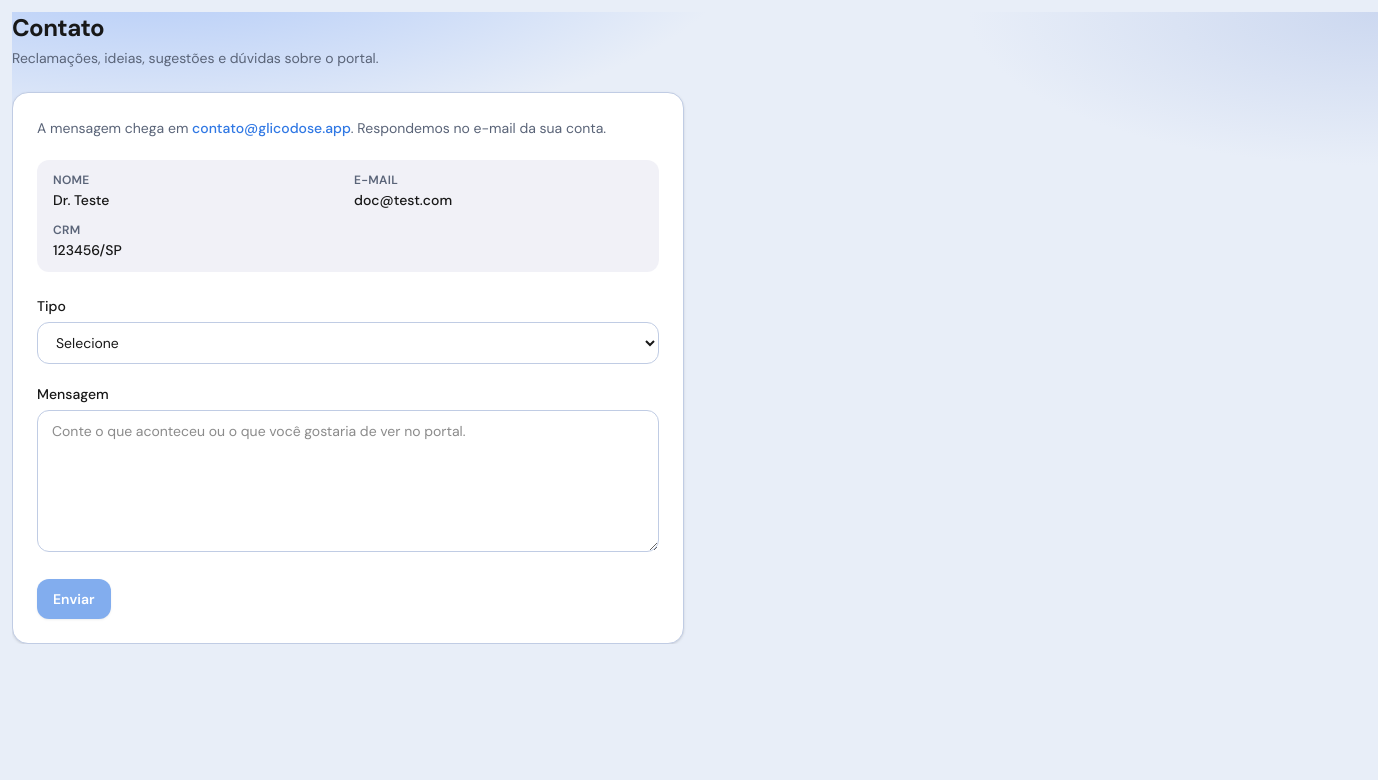
Test case: ContactPage › shows the signed-in doctor and sends type plus message
The image size is (1378, 780).
Check: the heading "Contato" is shown, box [12,12,104,43]
Check: the text "Dr. Teste" is shown, box [53,191,109,209]
Select "Sugestão" in the dropdown labelled "Tipo" at (348, 343), box [37,322,659,364]
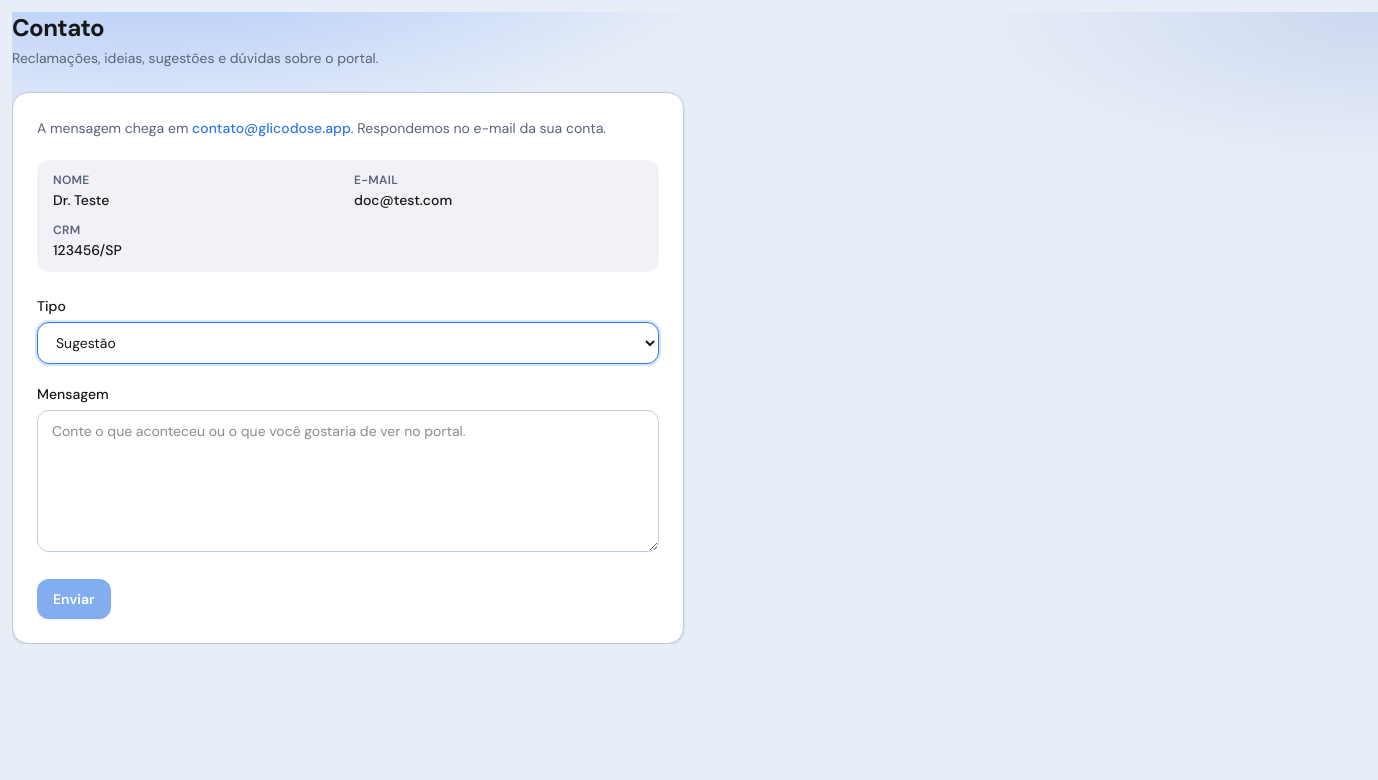
Type "Um atalho no histórico." into the text box labelled "Mensagem".
click(348, 481); type("Um atalho no histórico.")  # box [37,410,659,552]
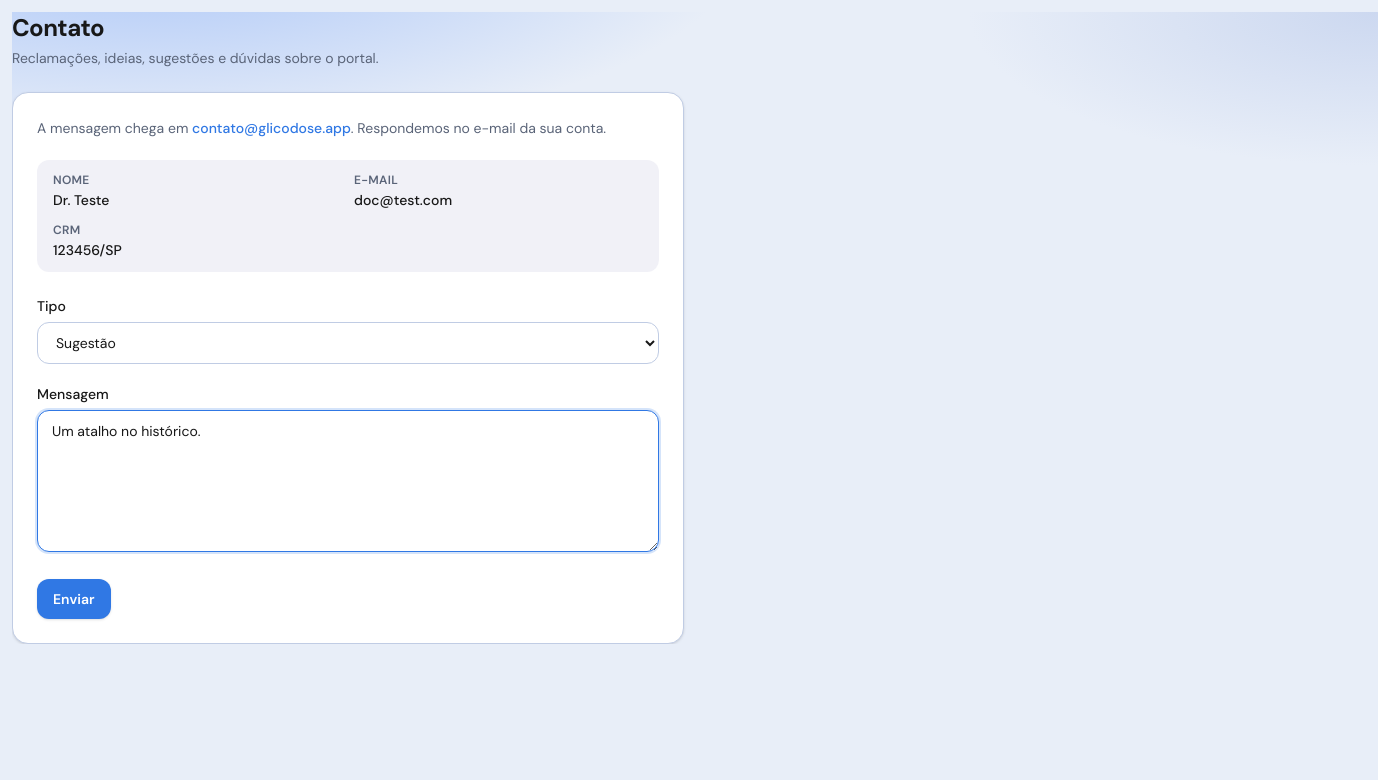
Click the button "Enviar".
click(74, 599)  # box [37,579,110,619]
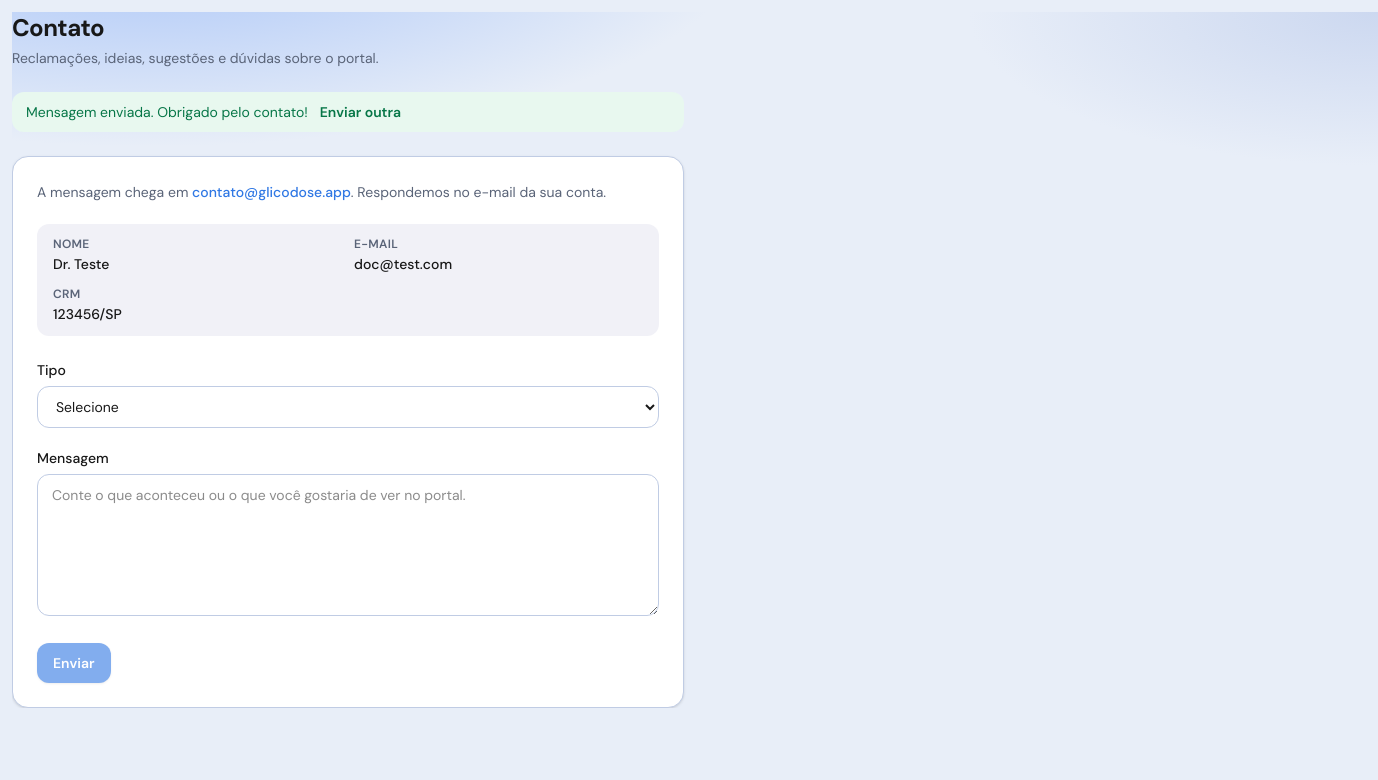
Check: the text "Mensagem enviada. Obrigado pelo contato! Enviar outra" is shown, box [26,102,401,122]
Check: the text box labelled "Mensagem" is empty, box [37,474,659,616]
Click the button "Enviar outra".
click(360, 112)  # box [320,102,401,122]
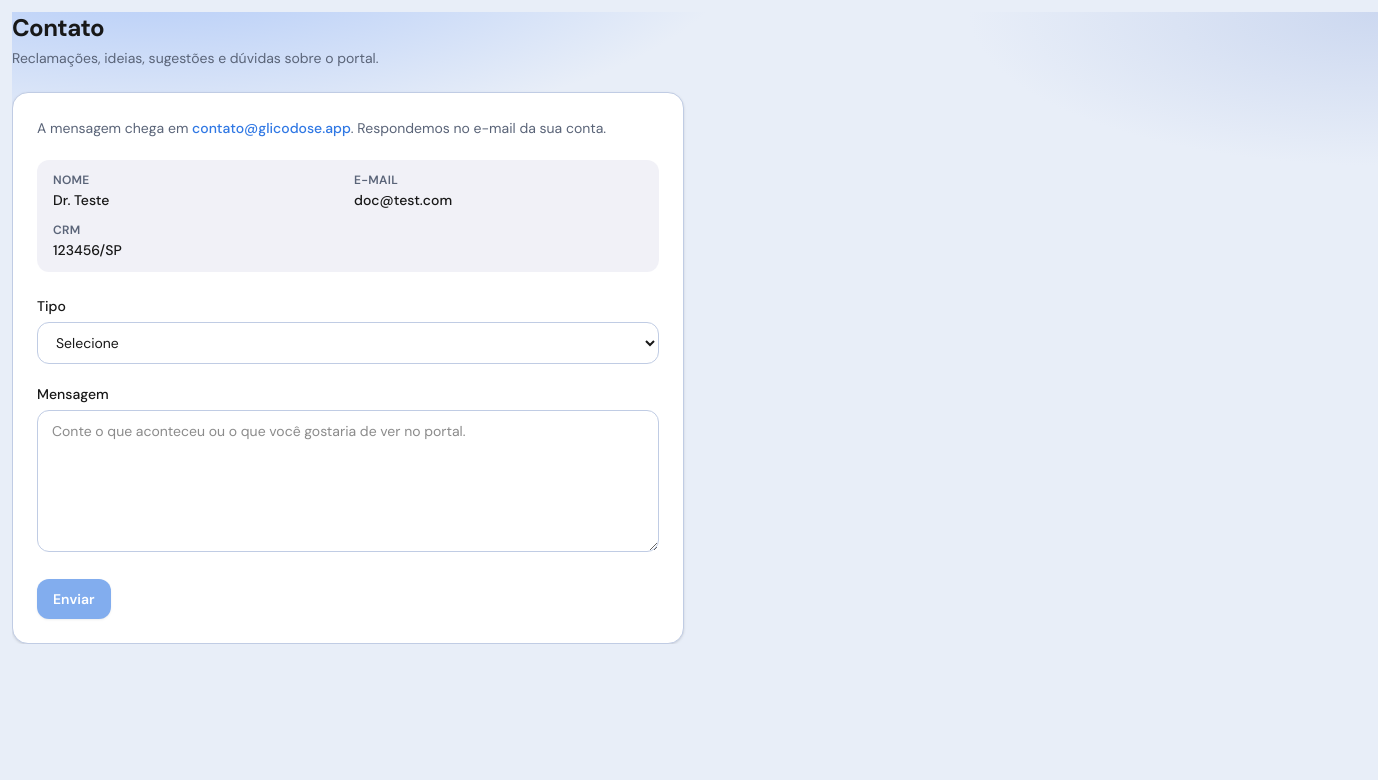
Check: the text "Mensagem enviada" is gone
